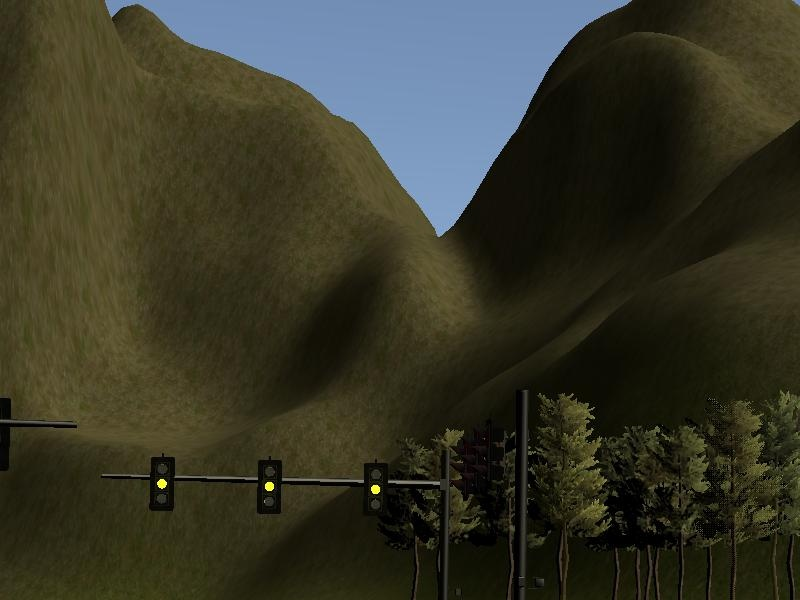YELLOW: (146, 456, 176, 513), (253, 459, 283, 516), (359, 460, 389, 517)
